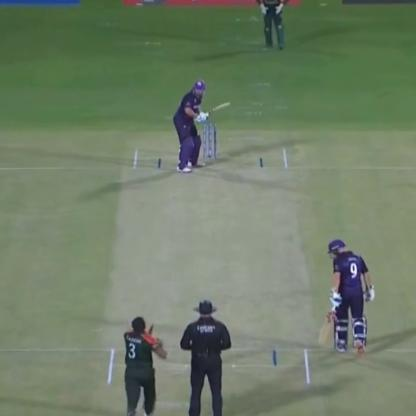bat: (316, 299, 340, 353), (194, 98, 236, 119)
pitch: (99, 143, 316, 393)
